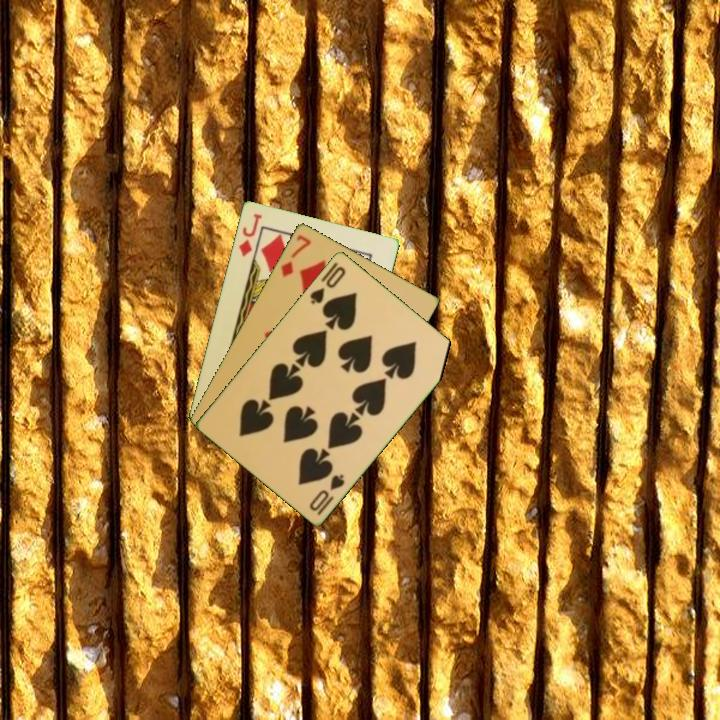10s: (306, 470, 348, 518), (306, 262, 349, 307)
7d: (277, 231, 314, 280)
Jd: (235, 210, 264, 259)
